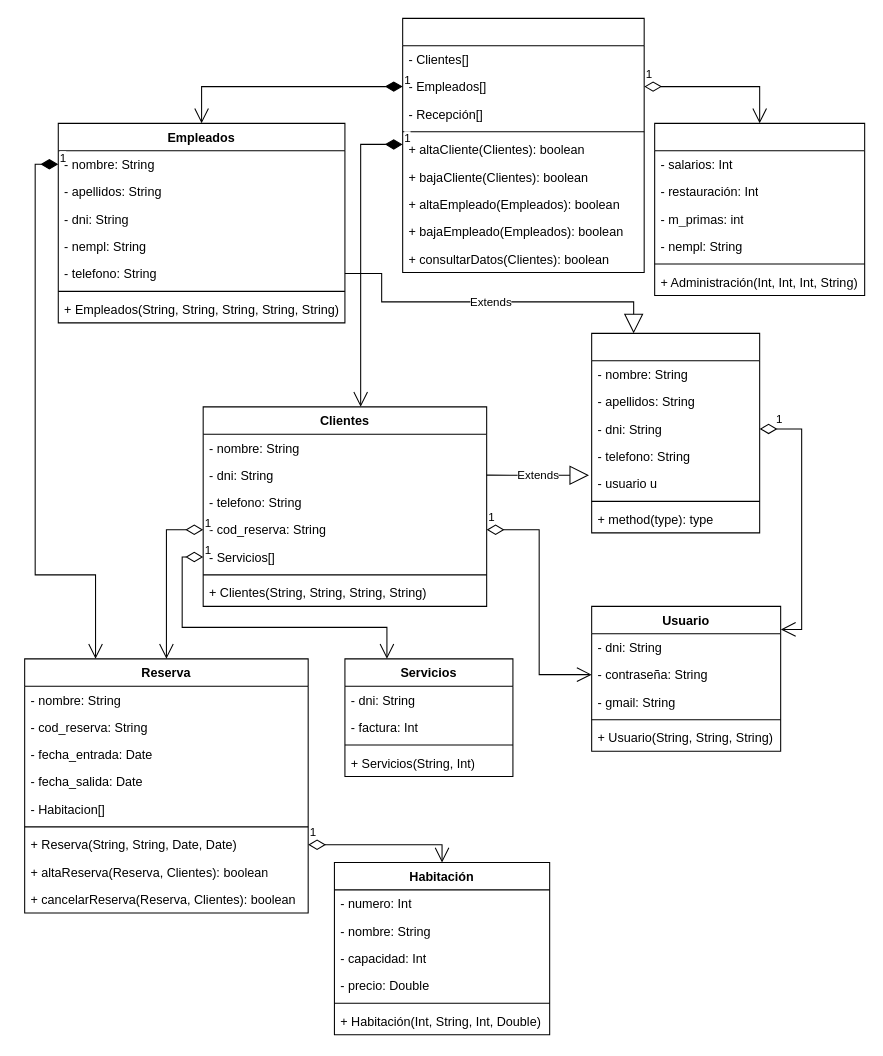
Some shapes in this 883 by 1056 pixel diagram are drawn without their labels. Here are the shapes that lost their labels. From the top down, the box of each, then its label:
(402, 17, 644, 272): Hotel
(654, 122, 865, 296): Recepción
(591, 332, 760, 533): Persona
